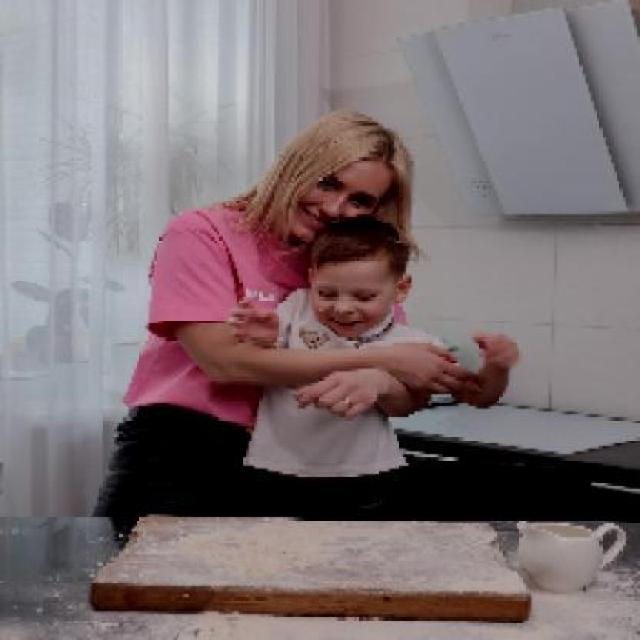child: (225, 213, 526, 516)
